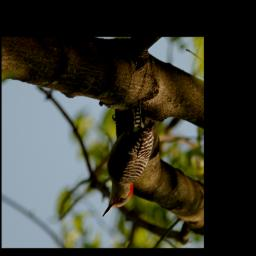Woodpecker: (102, 100, 154, 217)
